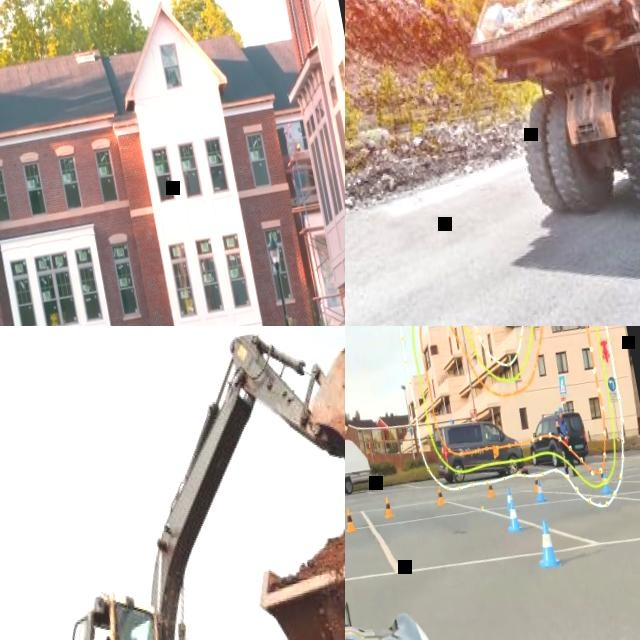NO-Hardhat: (557, 407, 564, 413)
NO-Mask: (558, 413, 562, 419)
NO-Safety Vest: (556, 418, 568, 439)
Person: (552, 406, 576, 478)
Safety Cone: (531, 518, 561, 570), (506, 501, 522, 533), (378, 492, 394, 520), (599, 468, 613, 500), (532, 478, 545, 505), (345, 505, 356, 535), (503, 487, 516, 510), (530, 470, 542, 494), (434, 484, 446, 507), (485, 477, 495, 499)
machinery: (0, 326, 345, 640), (456, 0, 640, 265)
vehicle: (345, 549, 640, 640), (429, 410, 527, 487), (523, 403, 589, 465)
